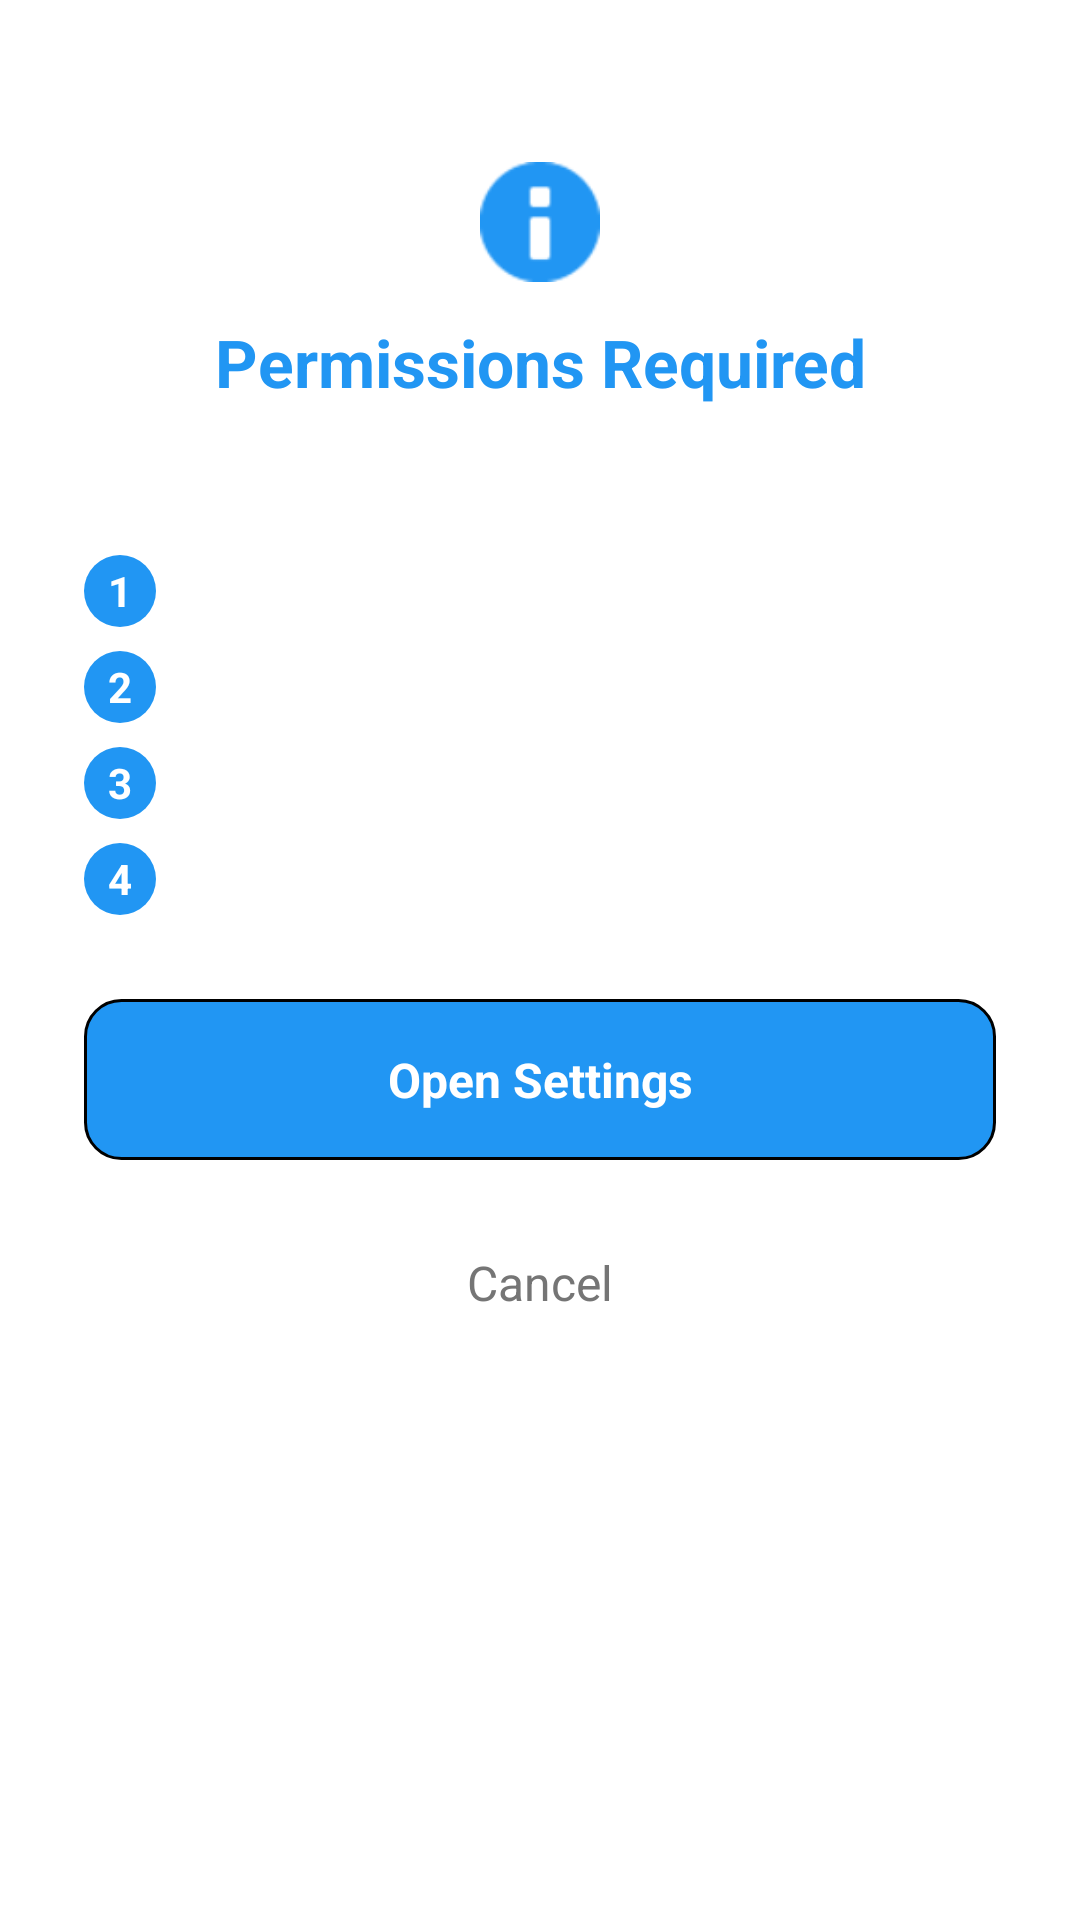

Locate icon controls on the screen. Image size 1080x1920, boxes as (x1, y1, x2, y2).
info: (480, 162, 600, 282)
